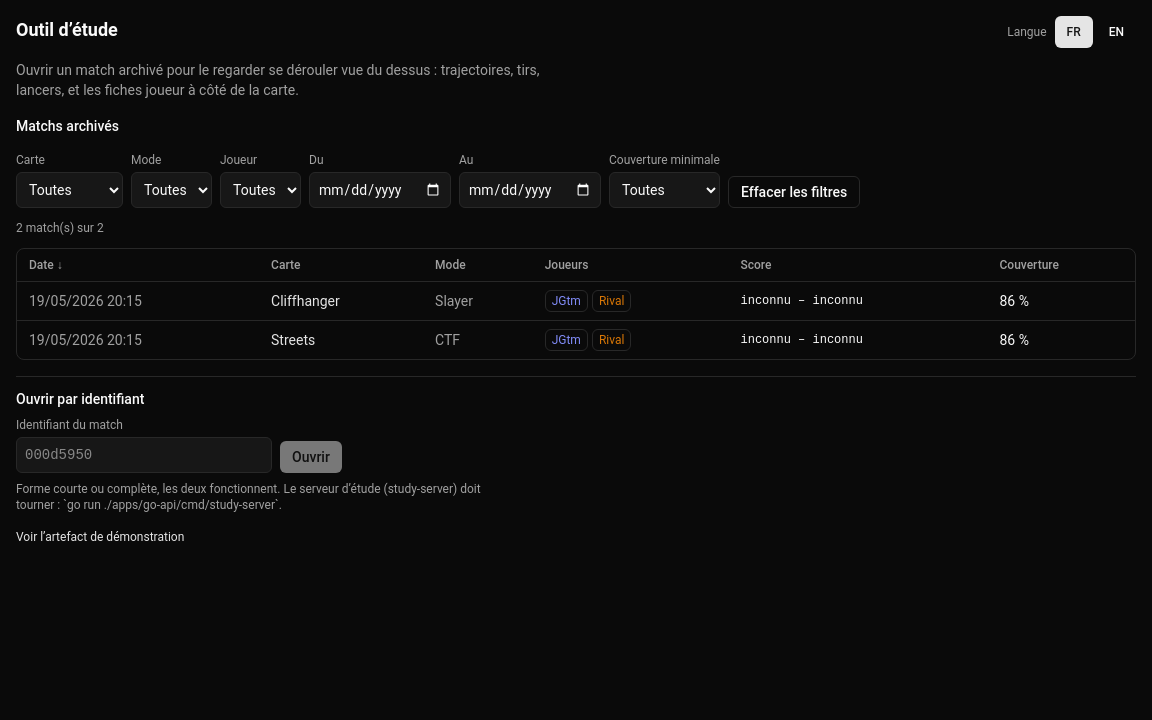
Test case: the archive browser › narrows the table on a filter, without asking the server again
Expected: the link "Cliffhanger" is shown, x1=271 y1=293 x2=340 y2=309
Select "CTF" in the dropdown labelled "Mode" at (172, 190), box x1=131 y1=172 x2=212 y2=208
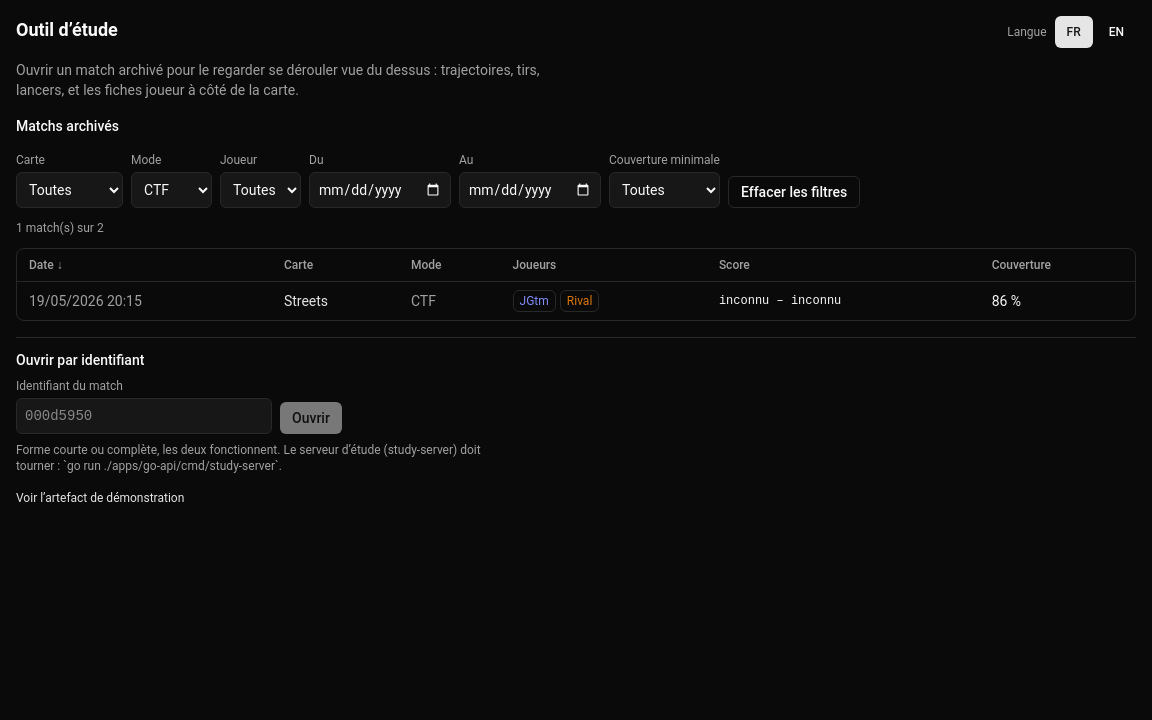
Expected: the link "Streets" is shown, x1=284 y1=293 x2=328 y2=309
Expected: the link "Cliffhanger" is gone
